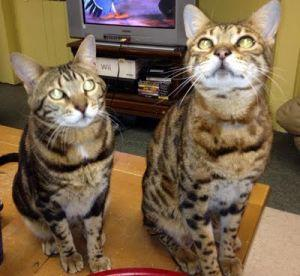bengal: (177, 1, 284, 94)
